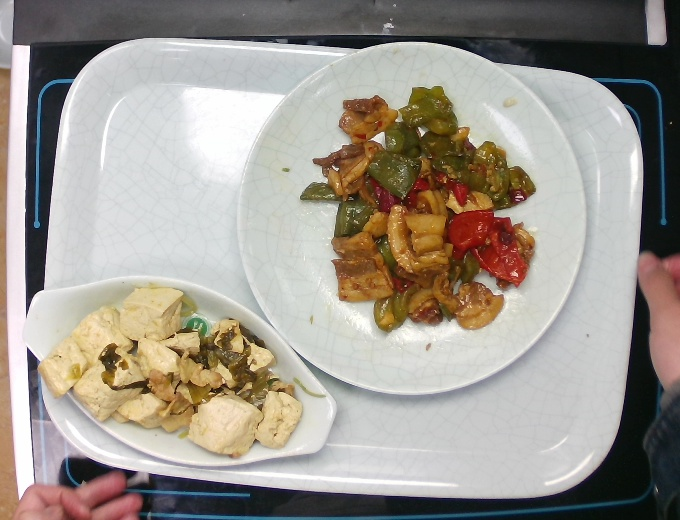JYsf-Da_Yuan_Pan: (229, 37, 592, 403)
JYsf-Yu_Pan: (19, 267, 341, 471)
